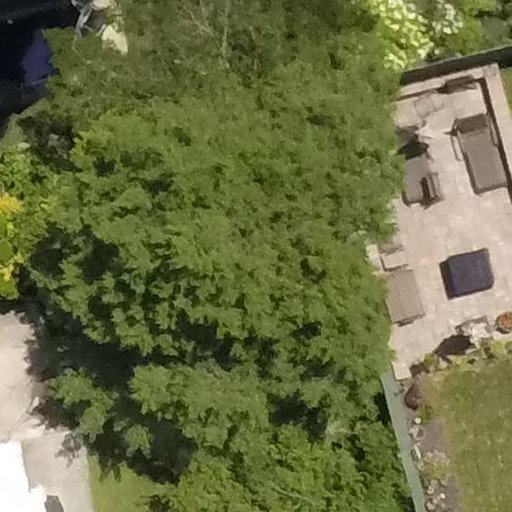container: (492, 312, 512, 334), (408, 426, 427, 440), (412, 415, 424, 425)
